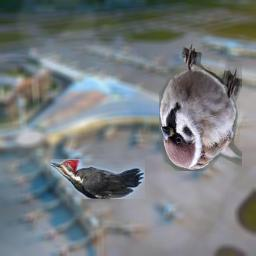Sparrow: (159, 44, 242, 171)
Woodpecker: (51, 159, 145, 199)
